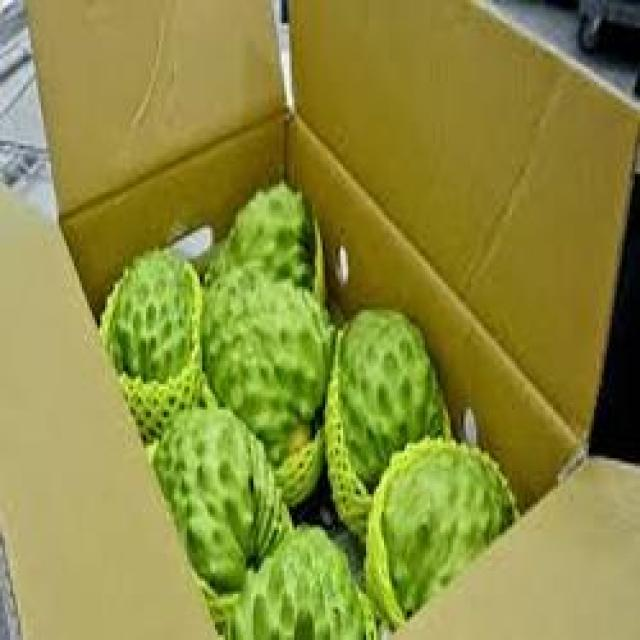custard_apple: (320, 302, 458, 499), (197, 256, 333, 435), (154, 404, 286, 584), (368, 423, 514, 581), (100, 236, 210, 412)
